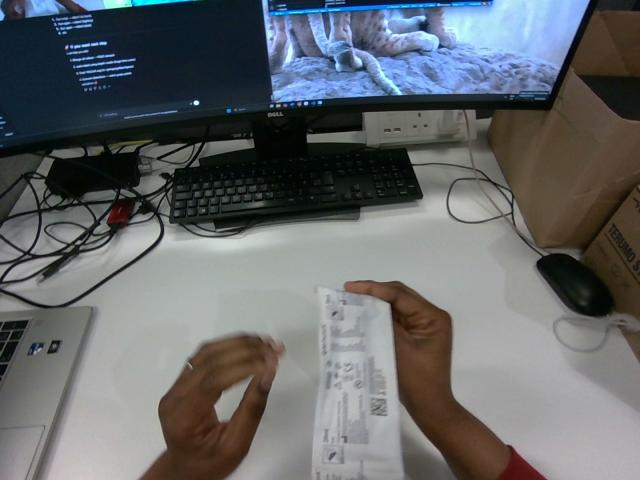syringe: (312, 287, 404, 479)
